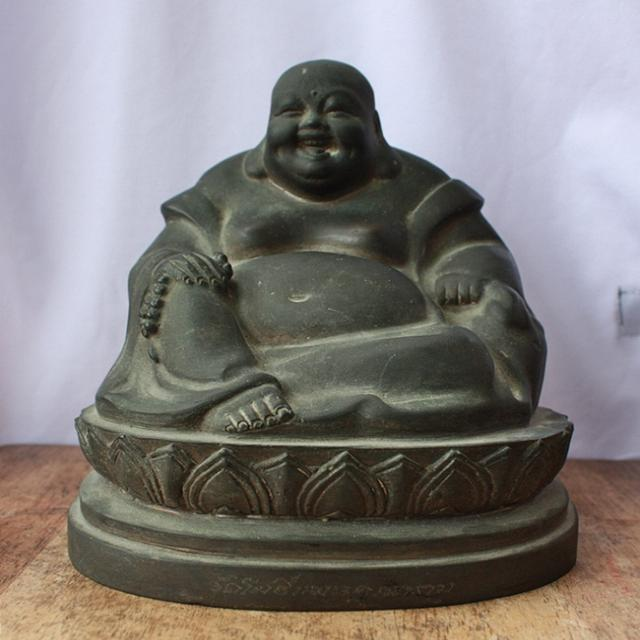Smiling Buddha: (143, 55, 480, 429)
